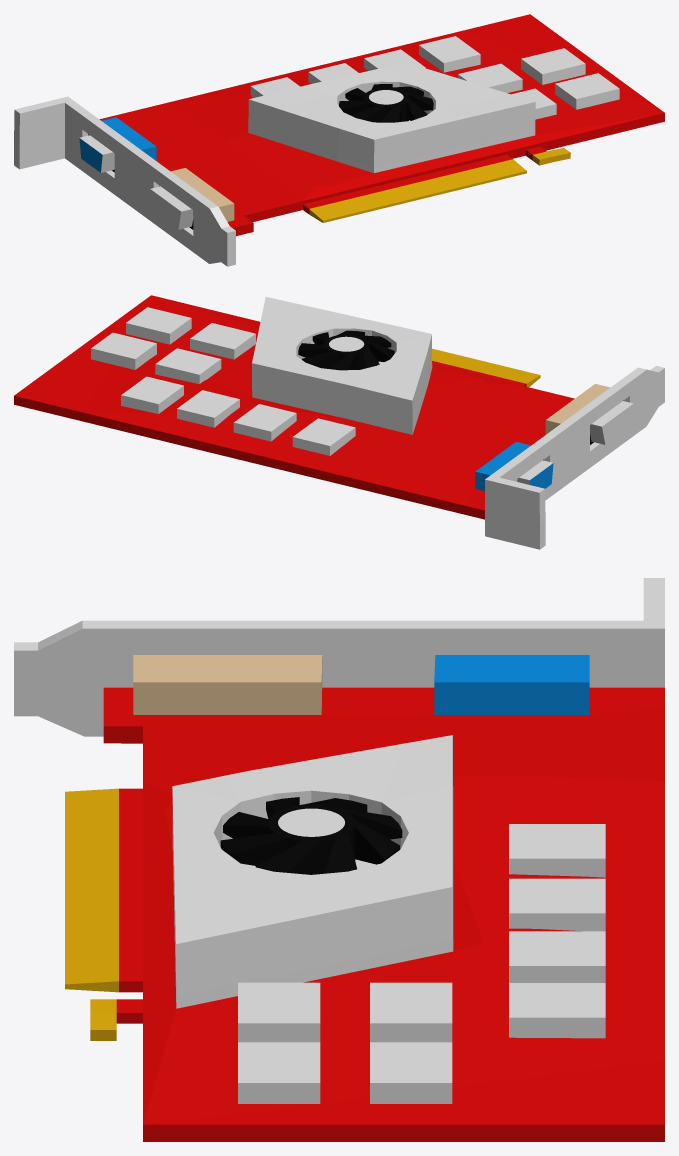
Rendered from radeon9800.fbx.
3 views of the same model, one above another, from view 1: azimuth 30°, elevation 25°; view 2: azimuth 150°, elevation 25°; view 3: azimuth 270°, elevation 25° (orthographic). The views are drawn at different scales.
Visible parts, largest first — view 1: Plane.001, Cylinder, Cube.004, Cube.007, Cube.003, Cube.005, Cube, Cube.006, Cube.001, Cube.002; view 2: Plane.001, Cylinder, Cube.007, Cube.004, Cube.006, Cube.005, Cube.003, Cube.002, Cube.001, Cube; view 3: Plane.001, Cylinder, Cube.003, Cube.004, Cube.007, Cube.001, Cube.005, Cube.006, Cube.002, Cube.
Part boxes in pixels (x1=…): Plane.001: x1=14, y1=14, x2=664, y2=266; Cylinder: x1=339, y1=84, x2=433, y2=122; Cube.004: x1=521, y1=48, x2=585, y2=84; Cube.007: x1=555, y1=73, x2=619, y2=109; Cube.003: x1=419, y1=36, x2=480, y2=72; Cube.005: x1=458, y1=63, x2=522, y2=92; Cube: x1=364, y1=49, x2=425, y2=70; Cube.006: x1=511, y1=88, x2=556, y2=119; Cube.001: x1=308, y1=63, x2=358, y2=83; Cube.002: x1=250, y1=77, x2=299, y2=97; Plane.001: x1=14, y1=295, x2=664, y2=549; Cylinder: x1=298, y1=330, x2=394, y2=370; Cube.007: x1=126, y1=307, x2=191, y2=344; Cube.004: x1=91, y1=332, x2=156, y2=369; Cube.006: x1=190, y1=323, x2=255, y2=359; Cube.005: x1=155, y1=348, x2=221, y2=383; Cube.003: x1=121, y1=376, x2=183, y2=413; Cube.002: x1=292, y1=418, x2=355, y2=455; Cube.001: x1=233, y1=404, x2=296, y2=441; Cube: x1=177, y1=390, x2=239, y2=427; Plane.001: x1=14, y1=578, x2=664, y2=1141; Cylinder: x1=220, y1=797, x2=402, y2=874; Cube.003: x1=509, y1=983, x2=605, y2=1038; Cube.004: x1=370, y1=1042, x2=452, y2=1103; Cube.007: x1=238, y1=1042, x2=320, y2=1103; Cube.001: x1=509, y1=878, x2=605, y2=931; Cube.005: x1=370, y1=982, x2=452, y2=1042; Cube.006: x1=238, y1=982, x2=320, y2=1042; Cube.002: x1=509, y1=824, x2=605, y2=877; Cube: x1=509, y1=931, x2=605, y2=982.
Bounding box in the file's own units: 136 × 16.69 × 76.61.
